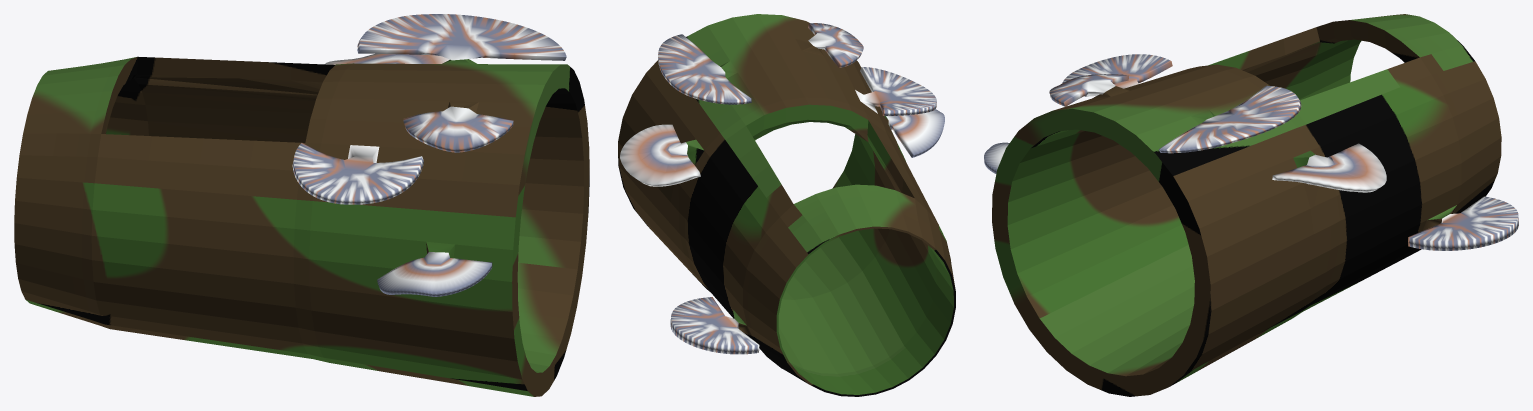
Rendered from logWithTexture.glb.
3 views of the same model, side by side, from view 1: azimuth 30°, elevation 25°; view 2: azimuth 150°, elevation 25°; view 3: azimuth 270°, elevation 25° (orthographic). The views are drawn at different scales.
Visible parts, largest first — view 1: Mesh_0.003; view 2: Mesh_0.003; view 3: Mesh_0.003.
Boxes of the visible parts, bbox=[...] form: Mesh_0.003: bbox=[14, 14, 589, 396]; Mesh_0.003: bbox=[618, 14, 955, 396]; Mesh_0.003: bbox=[984, 14, 1518, 396].
Bounding box in the file's own units: 0.1906 × 0.1105 × 0.1968.
Materials: 7 (1 with a texture image).
